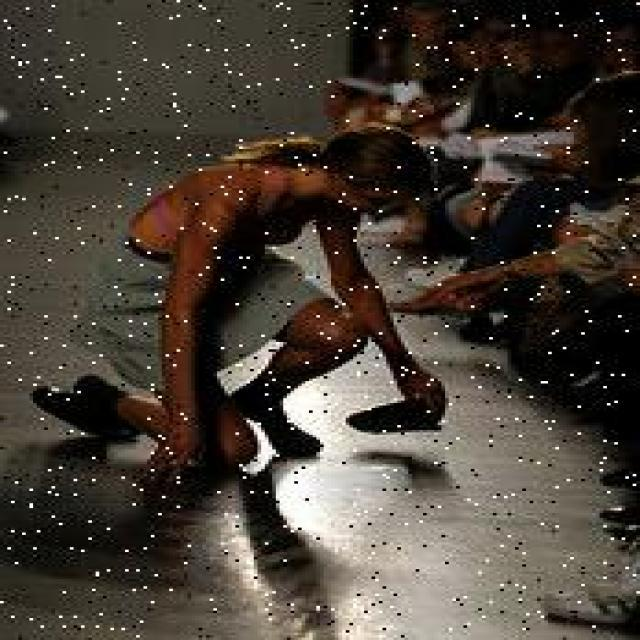fall: (48, 137, 438, 449)
